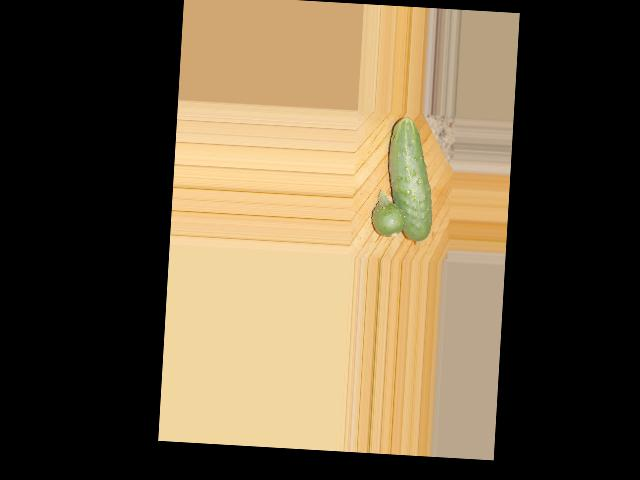cucumber: (383, 116, 437, 242)
